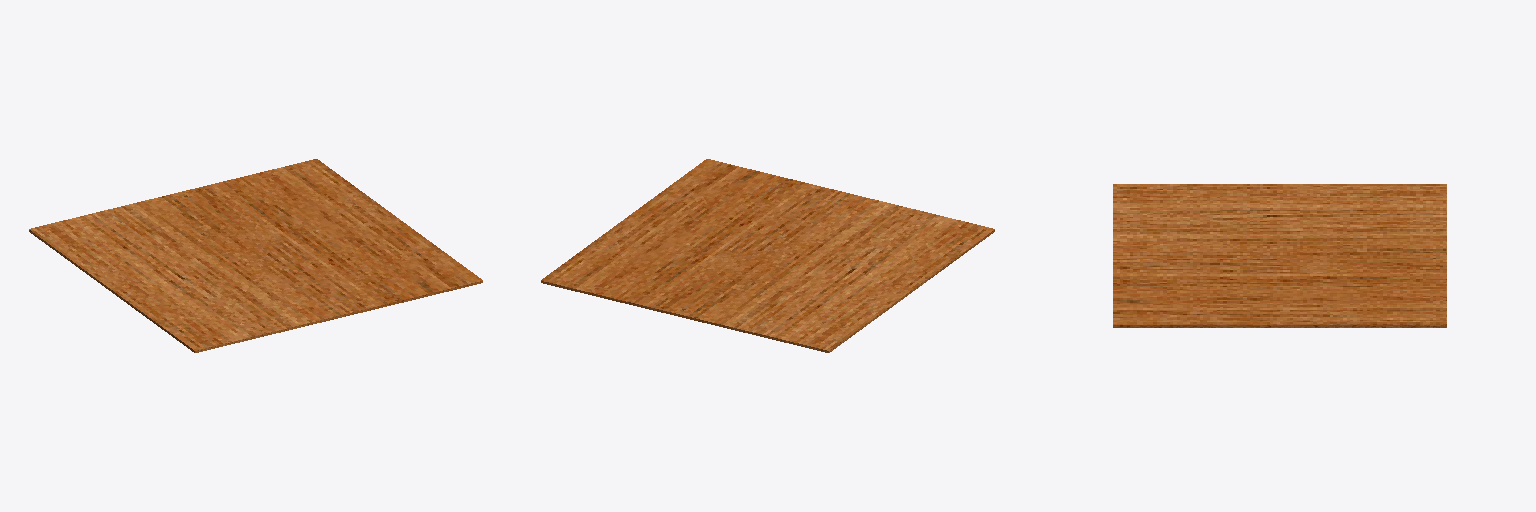
The picture shows the model from 3 angles: view 1: azimuth 30°, elevation 25°; view 2: azimuth 150°, elevation 25°; view 3: azimuth 270°, elevation 25°; orthographic projection.
Parts seen in each view (by area): view 1: 立方体; view 2: 立方体; view 3: 立方体.
Part boxes in pixels (x1,y1,x2,y2): 立方体: (29,159,482,352); 立方体: (541,159,994,352); 立方体: (1113,184,1446,327).
Size of the model in its own units: 14.21 by 0.1151 by 14.21.
Materials: 1 (1 with a texture image).